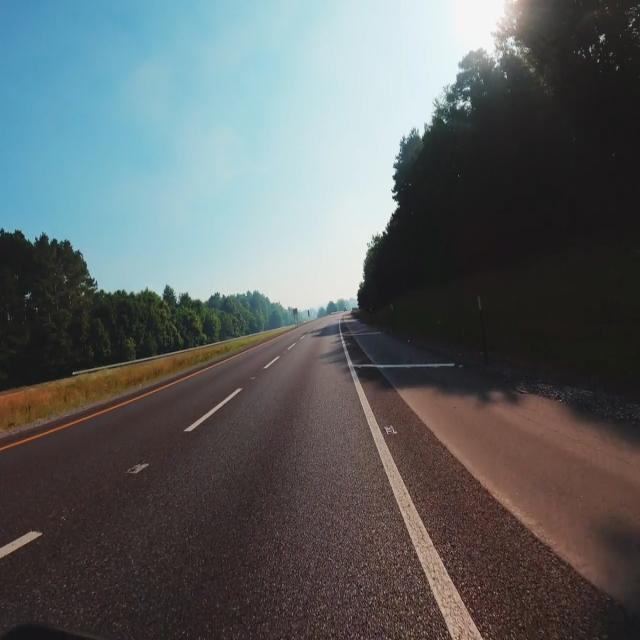asphalt: (0, 318, 470, 639), (356, 368, 640, 639)
grass: (0, 327, 291, 429)
